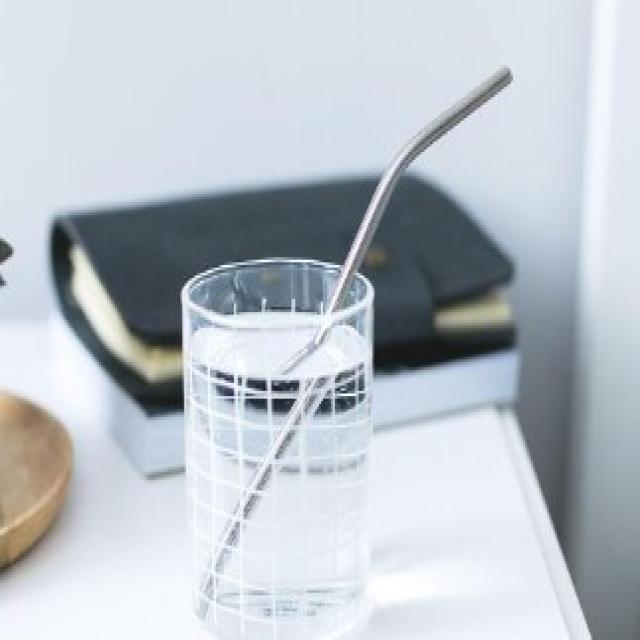electronic: (177, 261, 377, 640)
